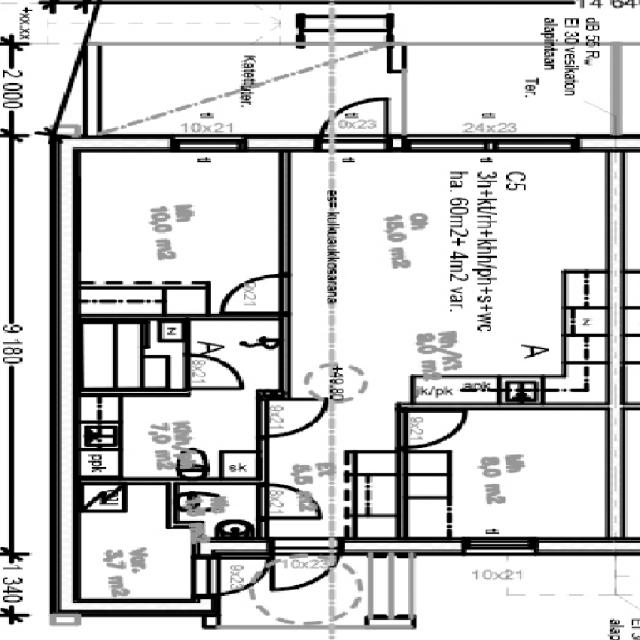door: (320, 90, 390, 153), (271, 537, 338, 597), (192, 556, 282, 596), (256, 399, 328, 437), (220, 275, 290, 311), (395, 413, 461, 446), (184, 353, 246, 388), (256, 486, 321, 519)
